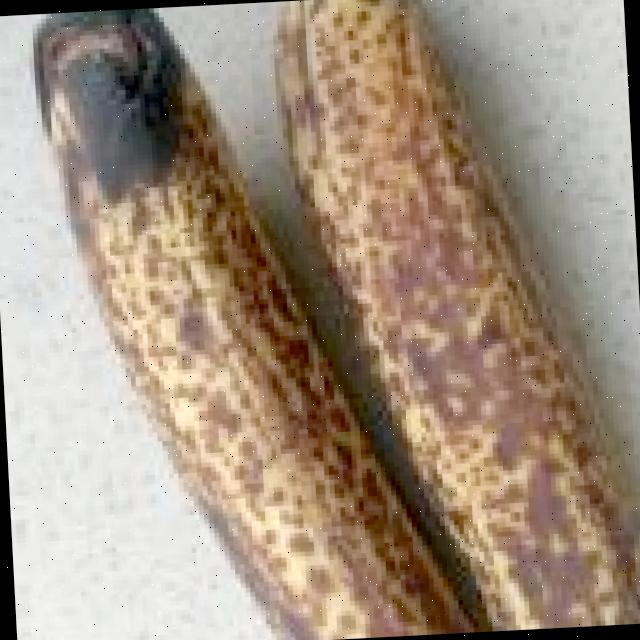Bad_Banana-0 day: (37, 0, 640, 640)
